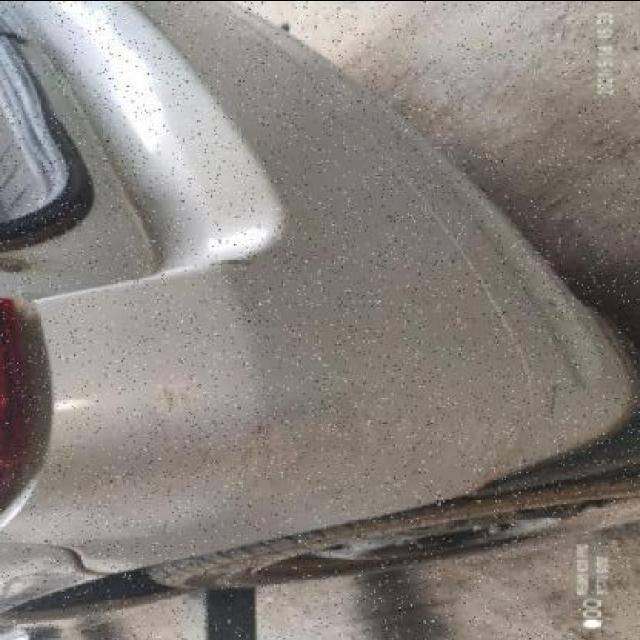rear-bumper-dent: (20, 262, 639, 545)
